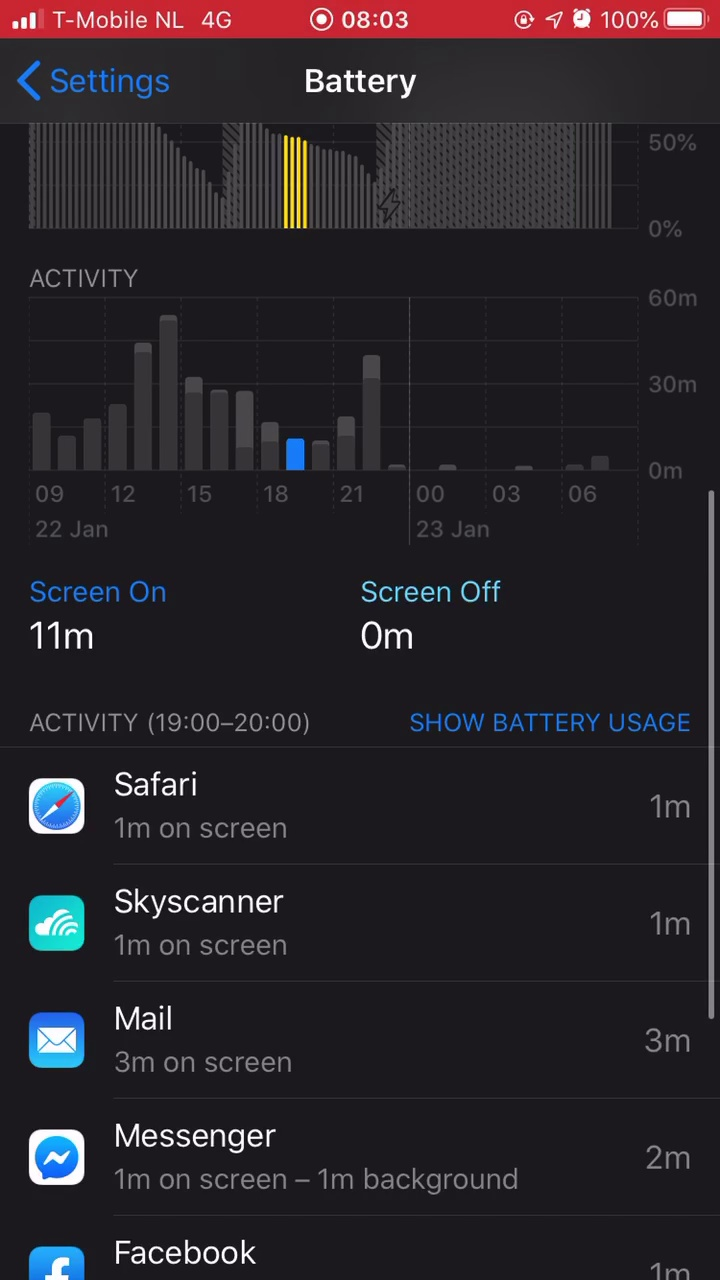activity: (21, 692, 340, 749)
app: (20, 758, 696, 852), (21, 872, 697, 966), (25, 995, 701, 1089), (21, 1116, 697, 1210), (19, 1114, 695, 1208)
